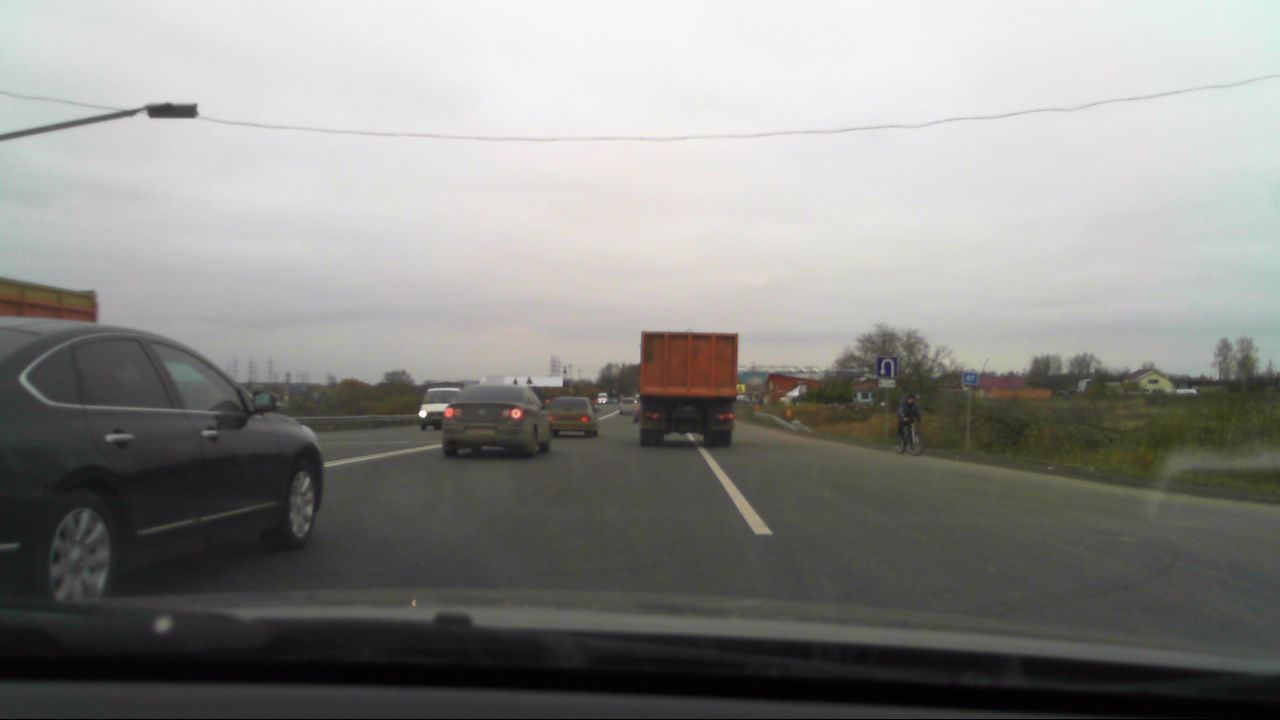U-turn: (877, 357, 897, 378)
